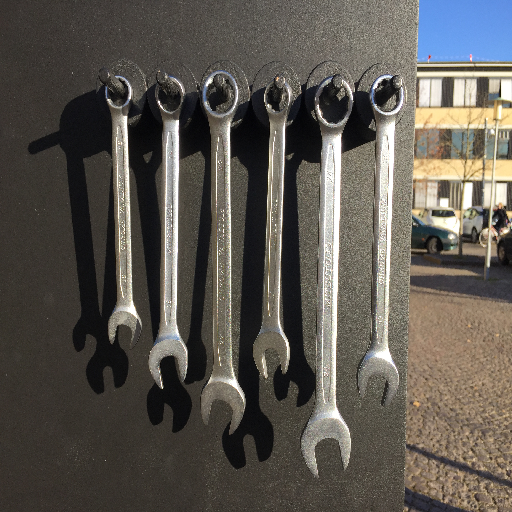bottom: (299, 414, 354, 480), (199, 375, 247, 438), (356, 347, 400, 409), (250, 324, 294, 381), (146, 334, 189, 390), (105, 305, 144, 350)
top: (311, 75, 355, 132), (199, 69, 242, 124), (366, 72, 406, 122), (153, 75, 188, 117), (101, 73, 137, 113), (262, 79, 296, 120)
